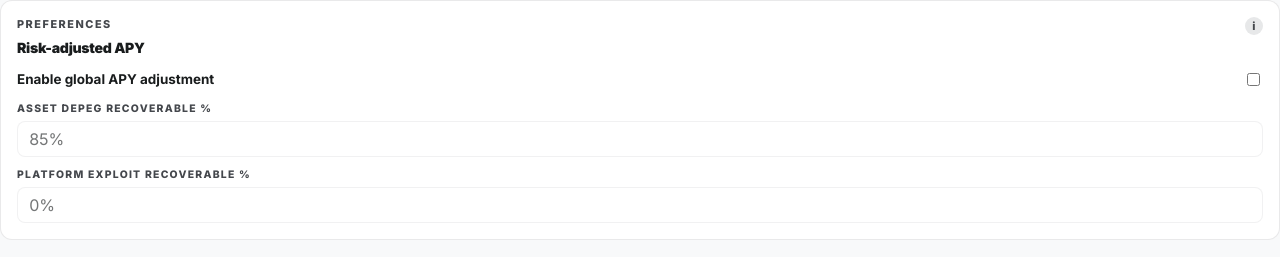
Test: risk-adjusted APY UI › disables inputs until the toggle is enabled and exposes tooltip copy
The image size is (1280, 257).
Check: the field labelled "Asset depeg recoverable %" is disabled, box [17,121,1263,157]
Check: the field labelled "Platform exploit recoverable %" is disabled, box [17,187,1263,223]
Click the checkbox labelled "Enable global APY adjustment". click: (1254, 79)
box: [1247,73,1260,86]
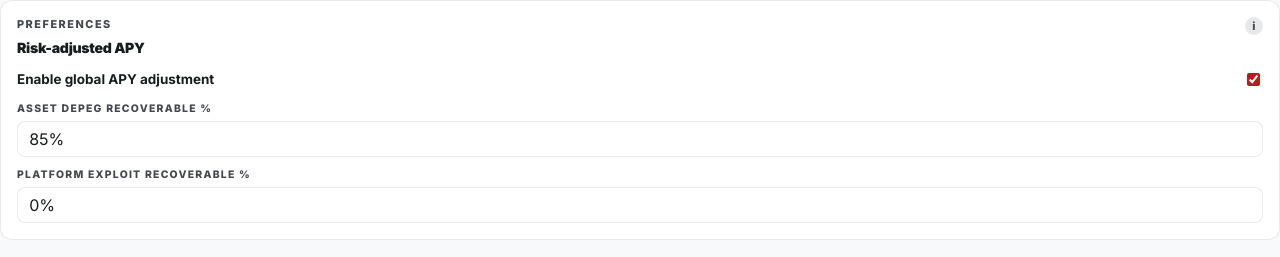
Check: the field labelled "Asset depeg recoverable %" is enabled, box [17,121,1263,157]
Check: the field labelled "Platform exploit recoverable %" is enabled, box [17,187,1263,223]
